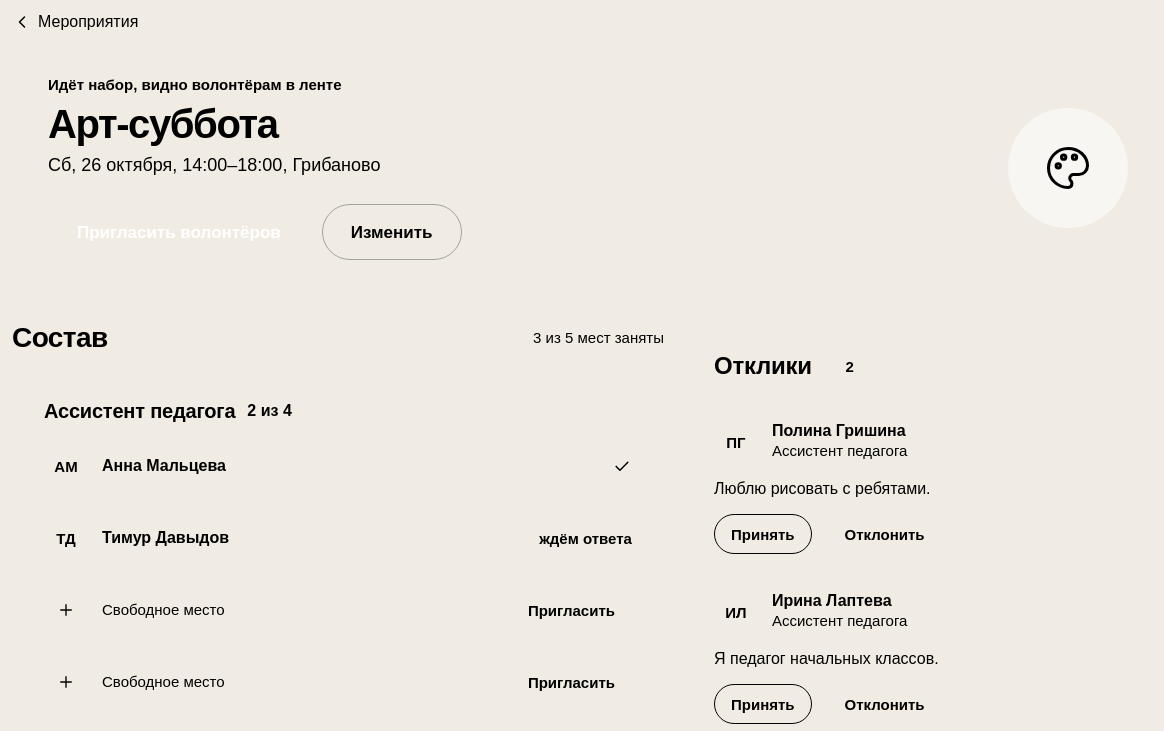
Test: event page shows the team by role, answers a sign-up and invites a suggested volunteer
Expected: the text "Идёт набор, видно волонтёрам в ленте" is shown, 48,76 -> 342,93
Expected: the text "Сб, 26 октября, 14:00–18:00, Грибаново" is shown, 48,155 -> 380,175
Click the button "Принять" below "Люблю рисовать с ребятами." at point(763, 534), box 714,514 -> 812,554
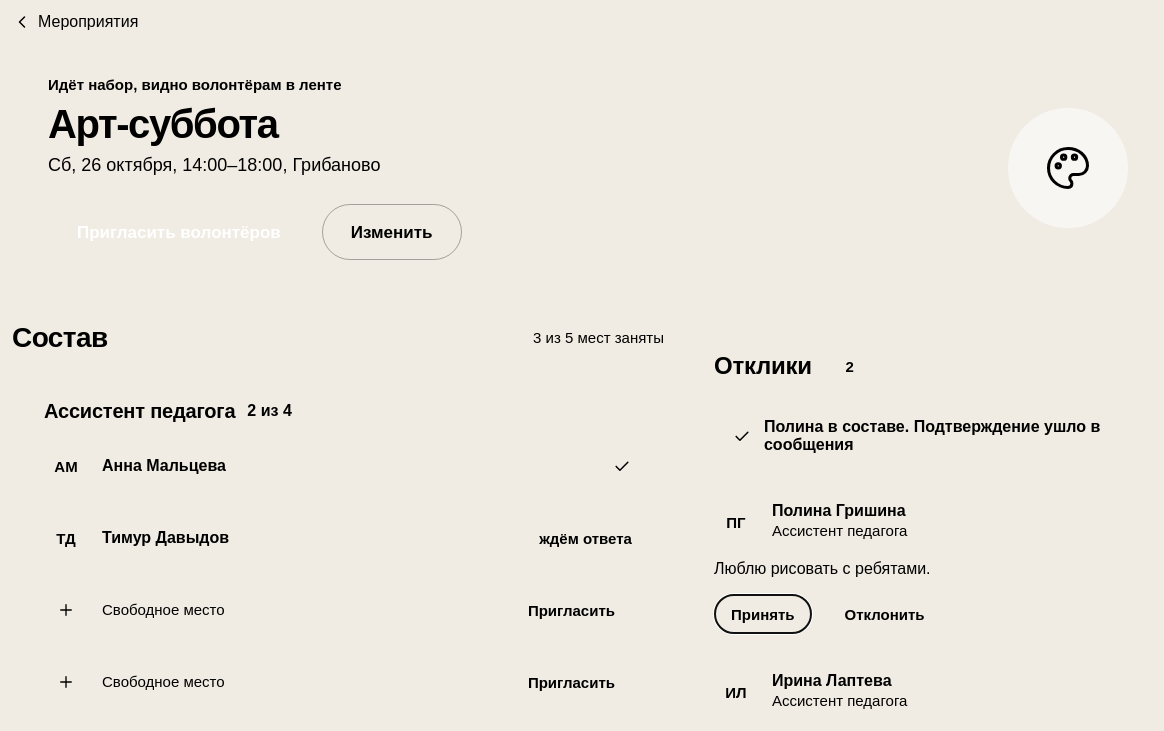
Expected: the text "Полина в составе. Подтверждение ушло в сообщения" is shown, 732,418 -> 1100,453
Click the button "Пригласить волонтёров" at point(179, 232), box 48,204 -> 310,260
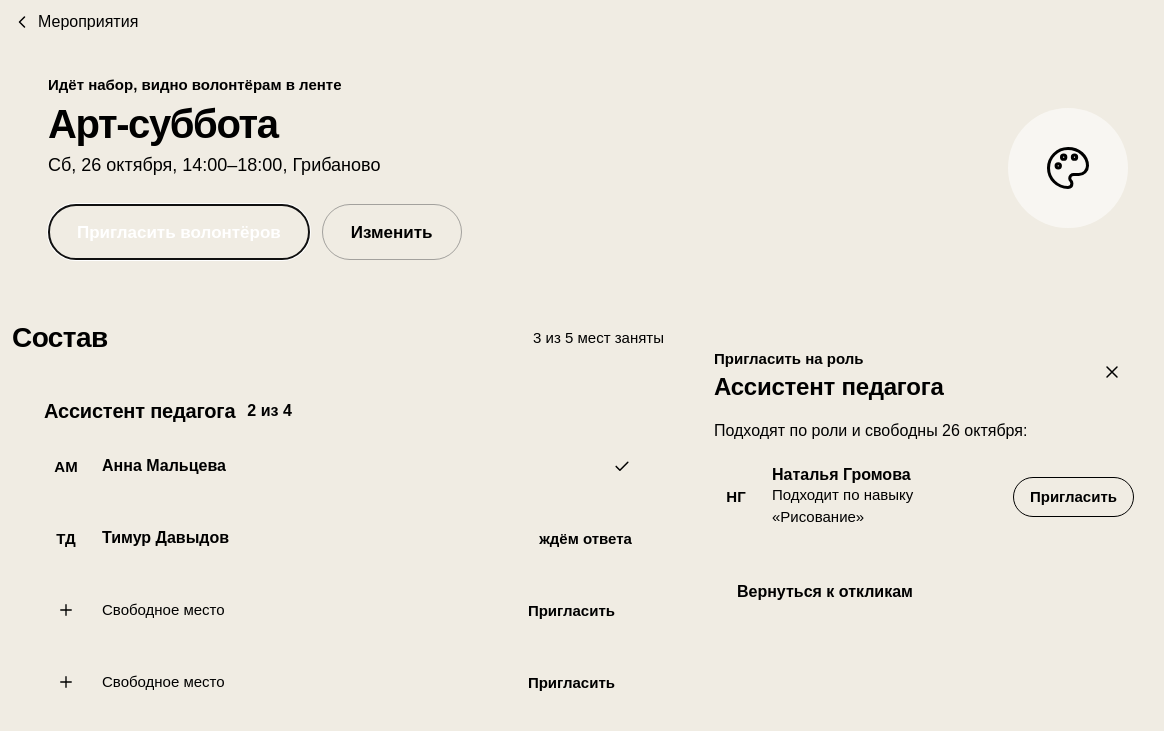
Expected: the heading "Ассистент педагога" below "Пригласить на роль" is shown, 714,371 -> 944,402
Expected: the text "Подходят по роли и свободны 26 октября:" is shown, 714,422 -> 1027,439
Click the button "Пригласить" next to "Подходит по навыку «Рисование»" at point(1074, 497), box 1013,477 -> 1134,517
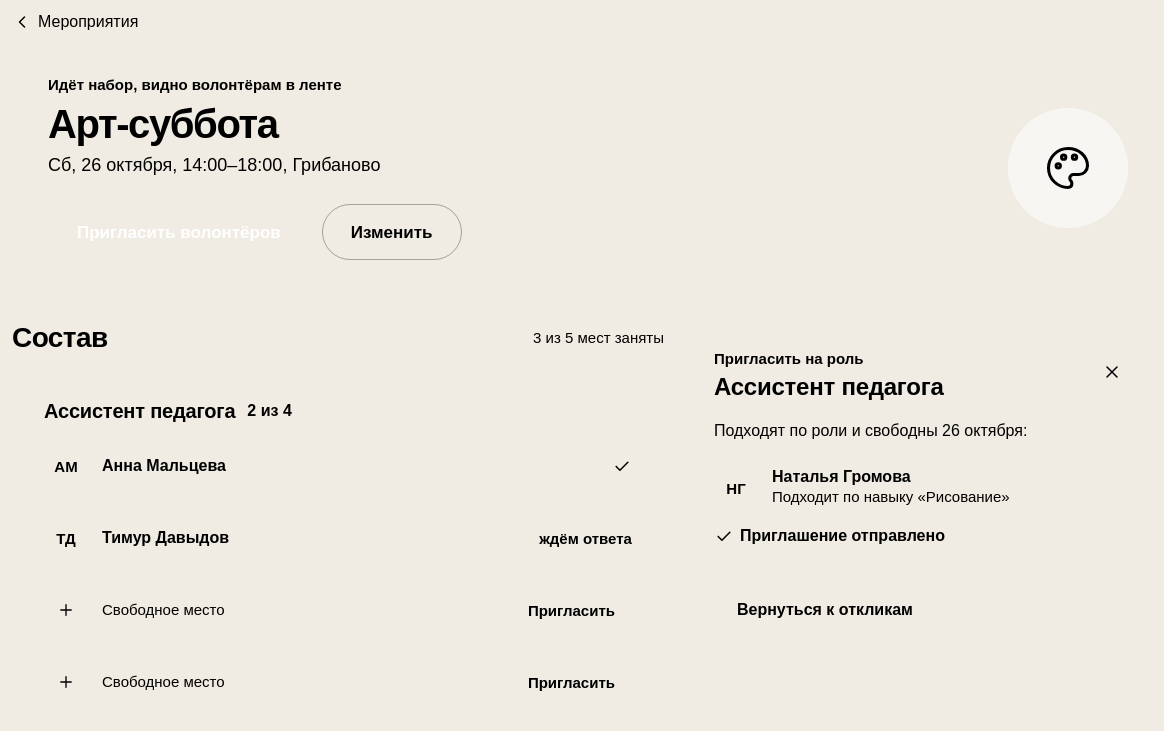
Expected: the text "Приглашение отправлено" is shown, 714,526 -> 945,546
Click the button "Вернуться к откликам" at point(825, 610), box 714,586 -> 936,634
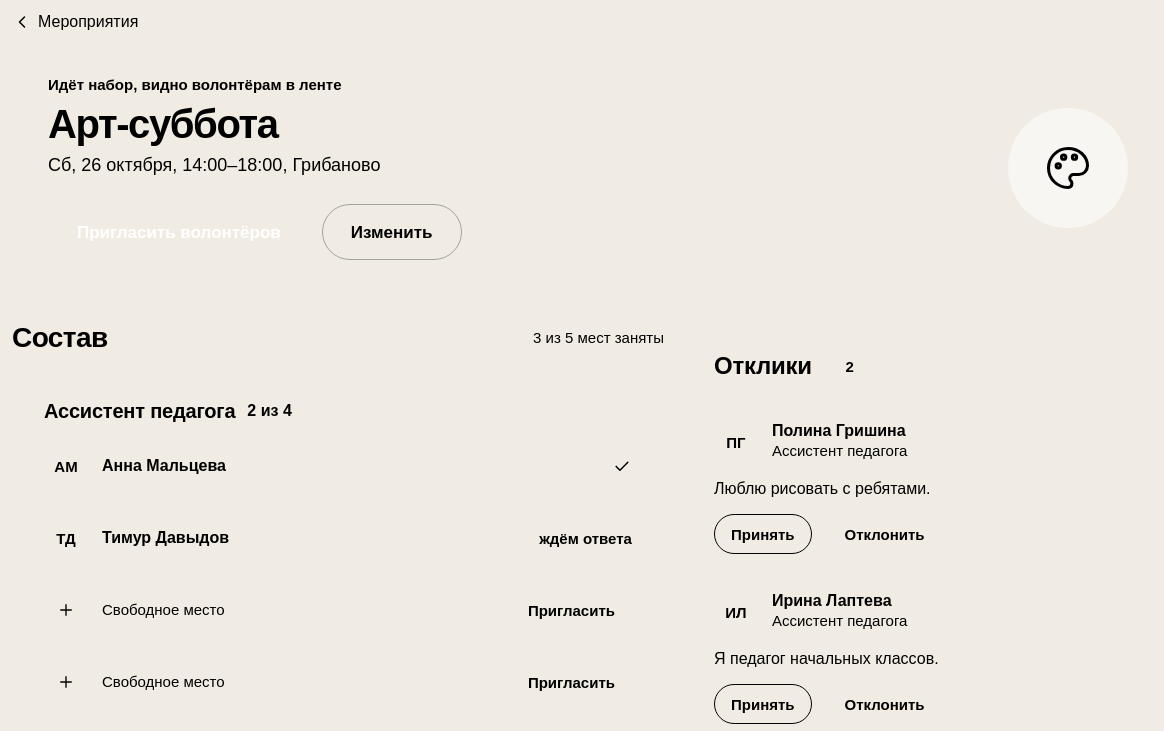
Expected: the heading "Отклики" is shown, 714,350 -> 812,382
